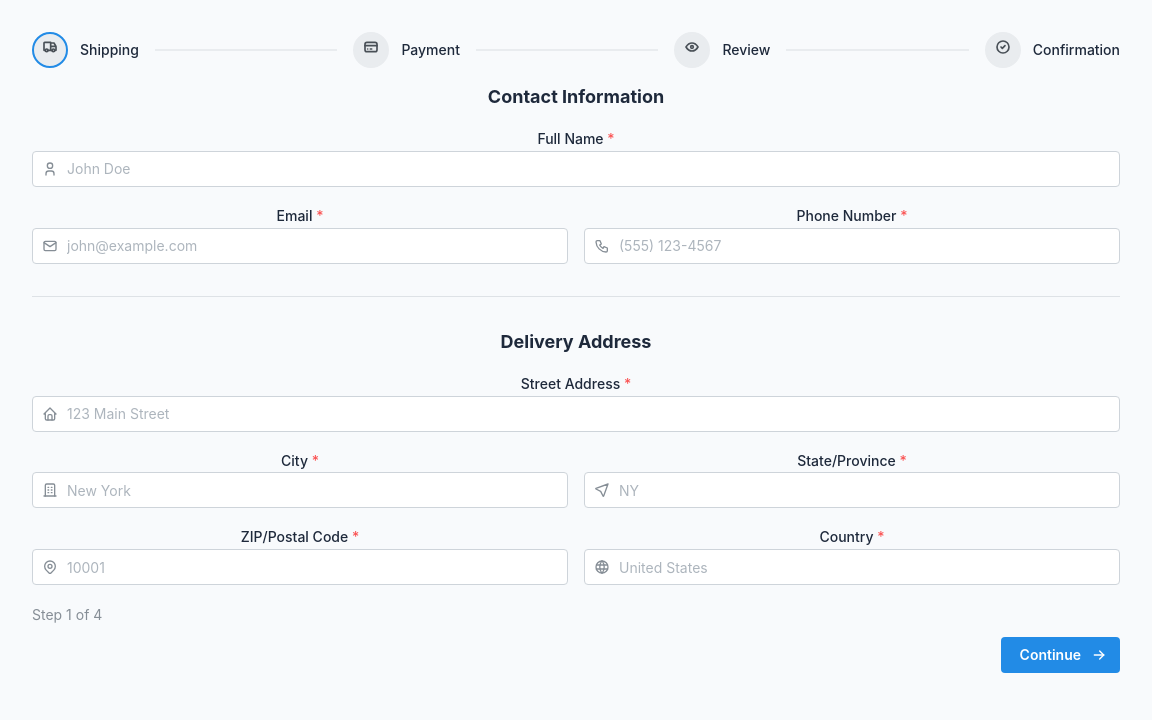
Test: CheckoutForm › Stepper Navigation › blocks progression and shows validation when step is incomplete
This screenshot has width=1152, height=720.
Click the button "Continue". click: click(1060, 656)
box: [1001,638,1120,674]
(page scrolled)
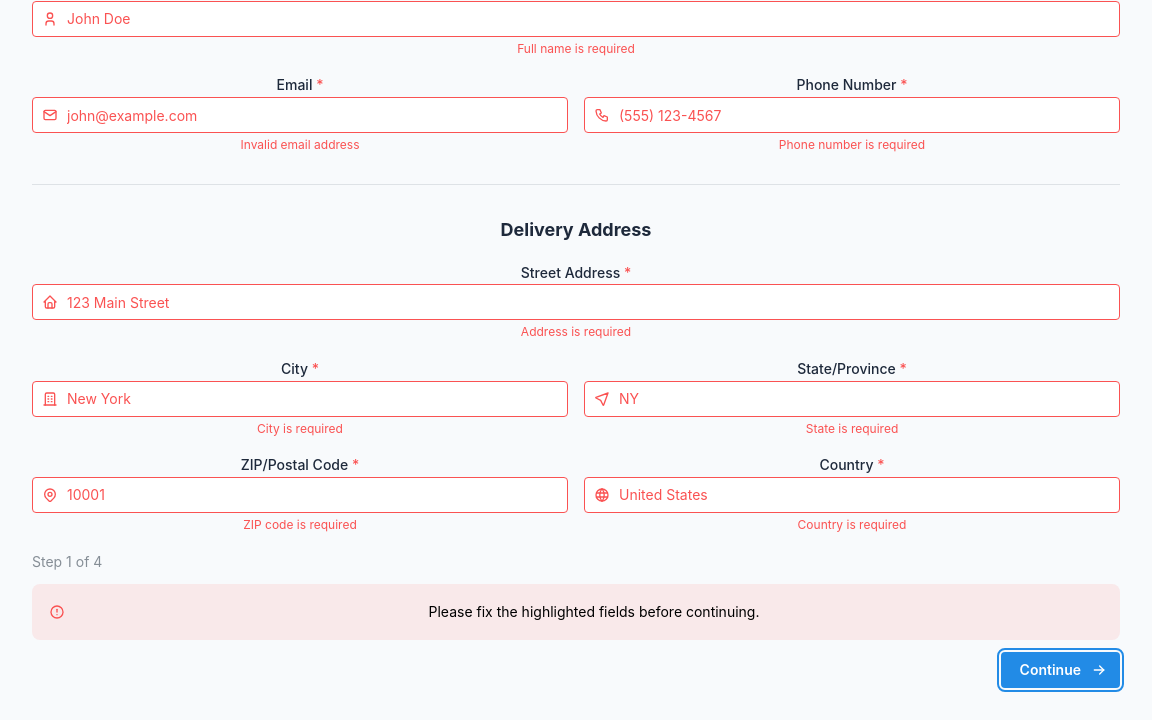
Result: the text "Please fix the highlighted fields before continuing." is shown at [428,603,759,620]
